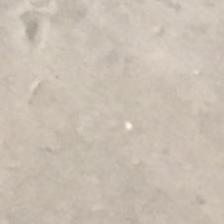Non_Crack: (6, 14, 206, 224)
